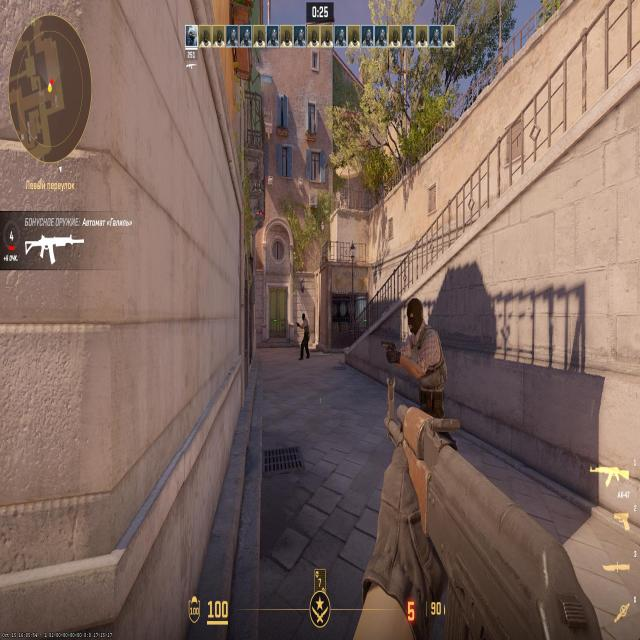T: (406, 296, 443, 406), (302, 312, 310, 350)
T_heat: (411, 312, 425, 342), (304, 320, 308, 329)
